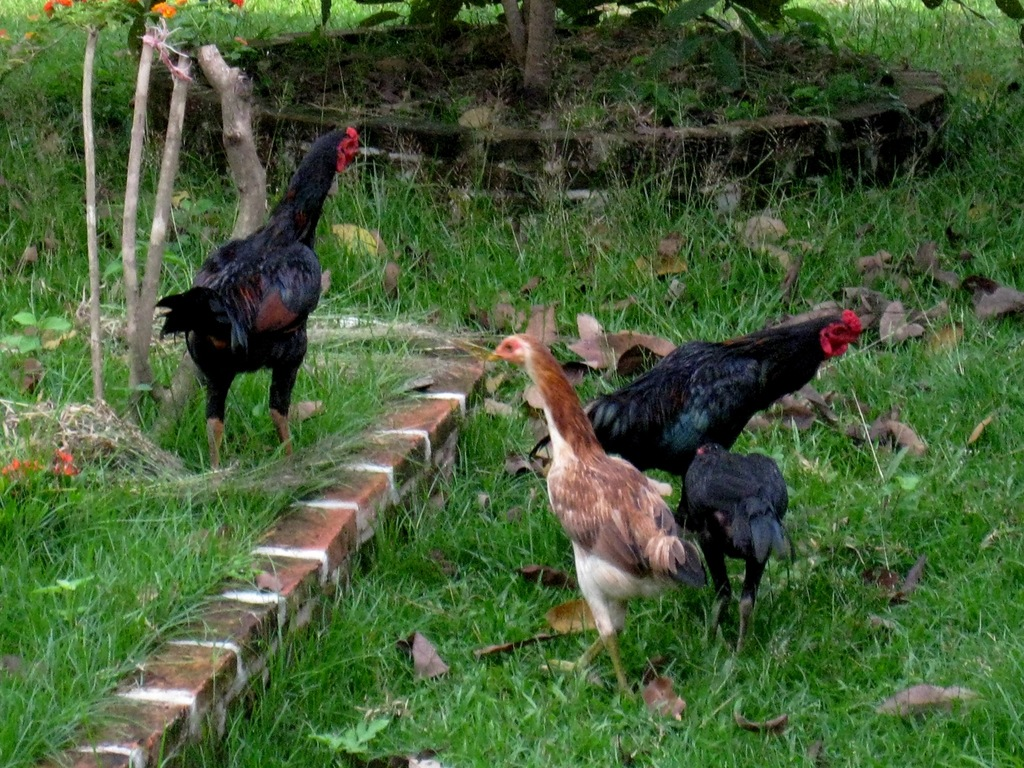chicken: (477, 326, 705, 700), (144, 125, 375, 453), (585, 298, 900, 470), (677, 436, 799, 658)
